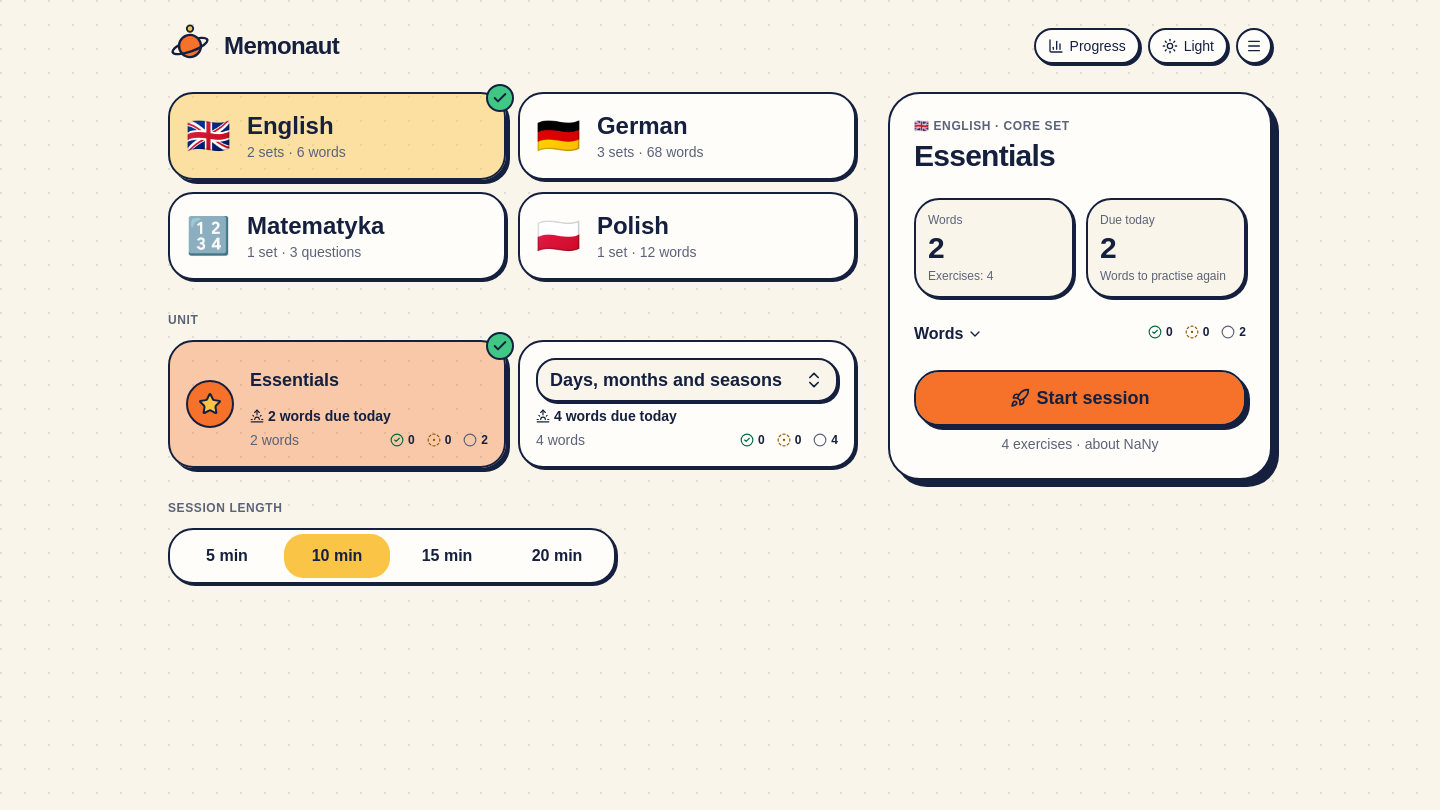
Test case: the logo leads back to the setup screen, asking first mid-session
Click the radio button named "German" at (687, 136), box x1=518 y1=92 x2=856 y2=180
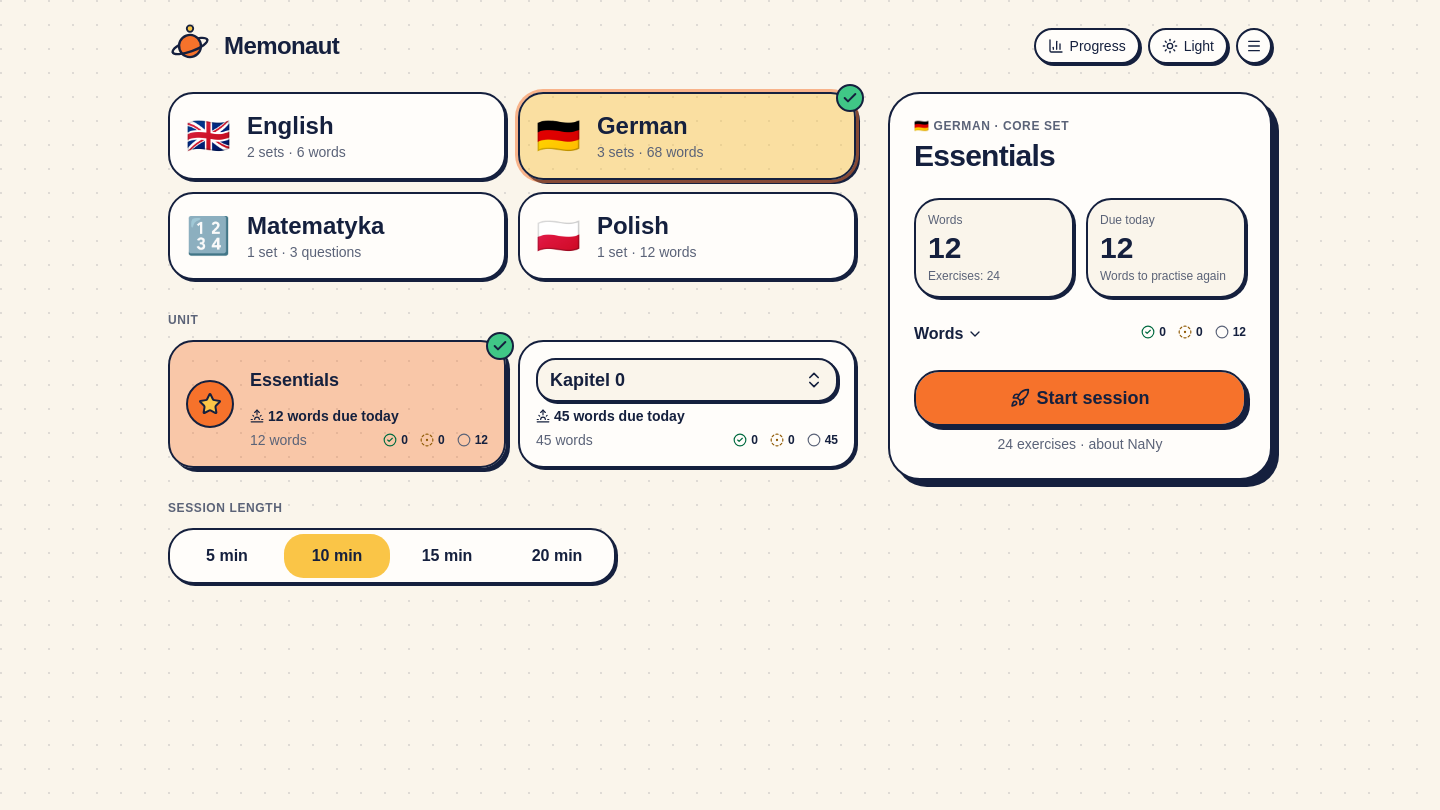
Click the 7th radio button labelled "20 min" at (557, 556), box x1=532 y1=547 x2=582 y2=564
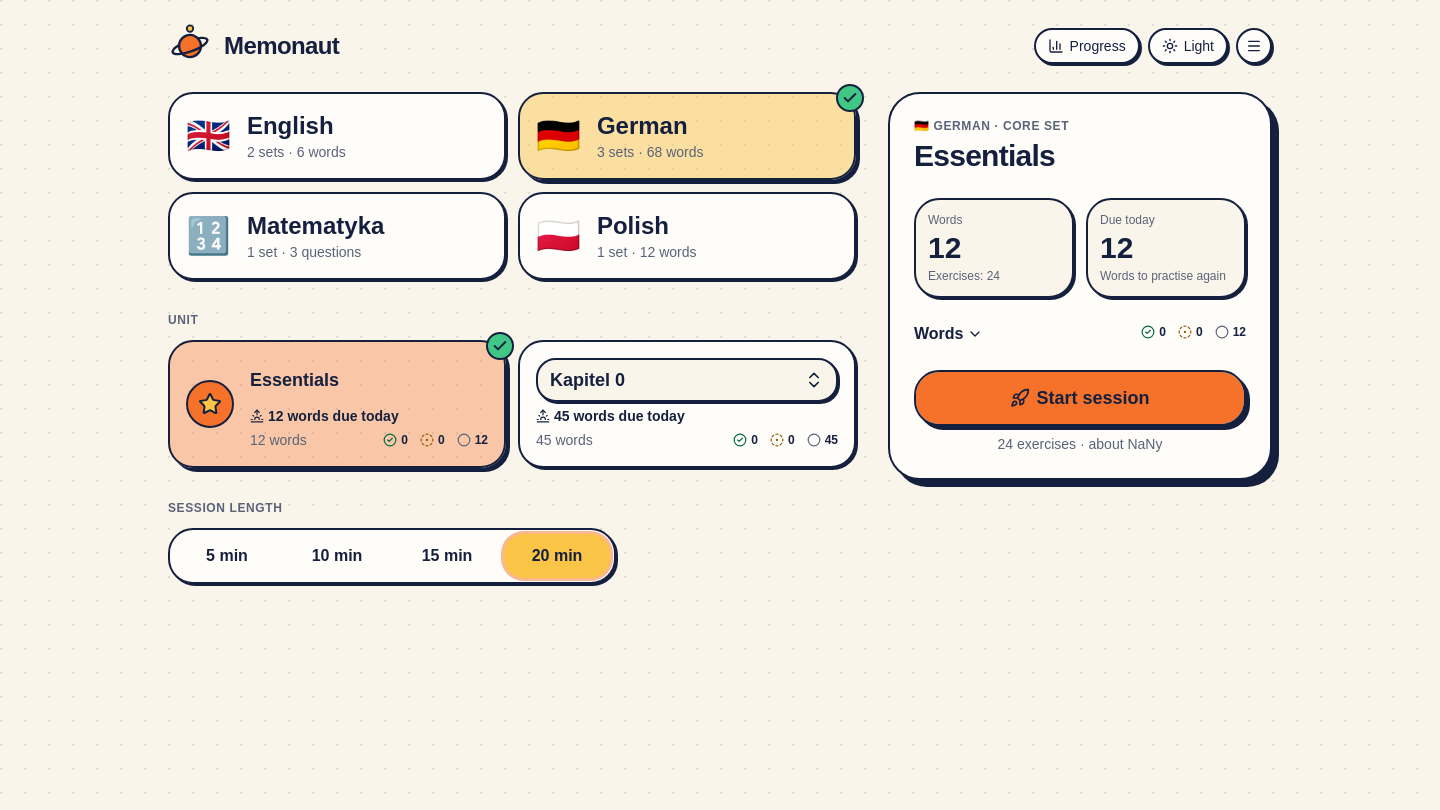
Click the button "Start session" at (1080, 398), box x1=914 y1=370 x2=1246 y2=426
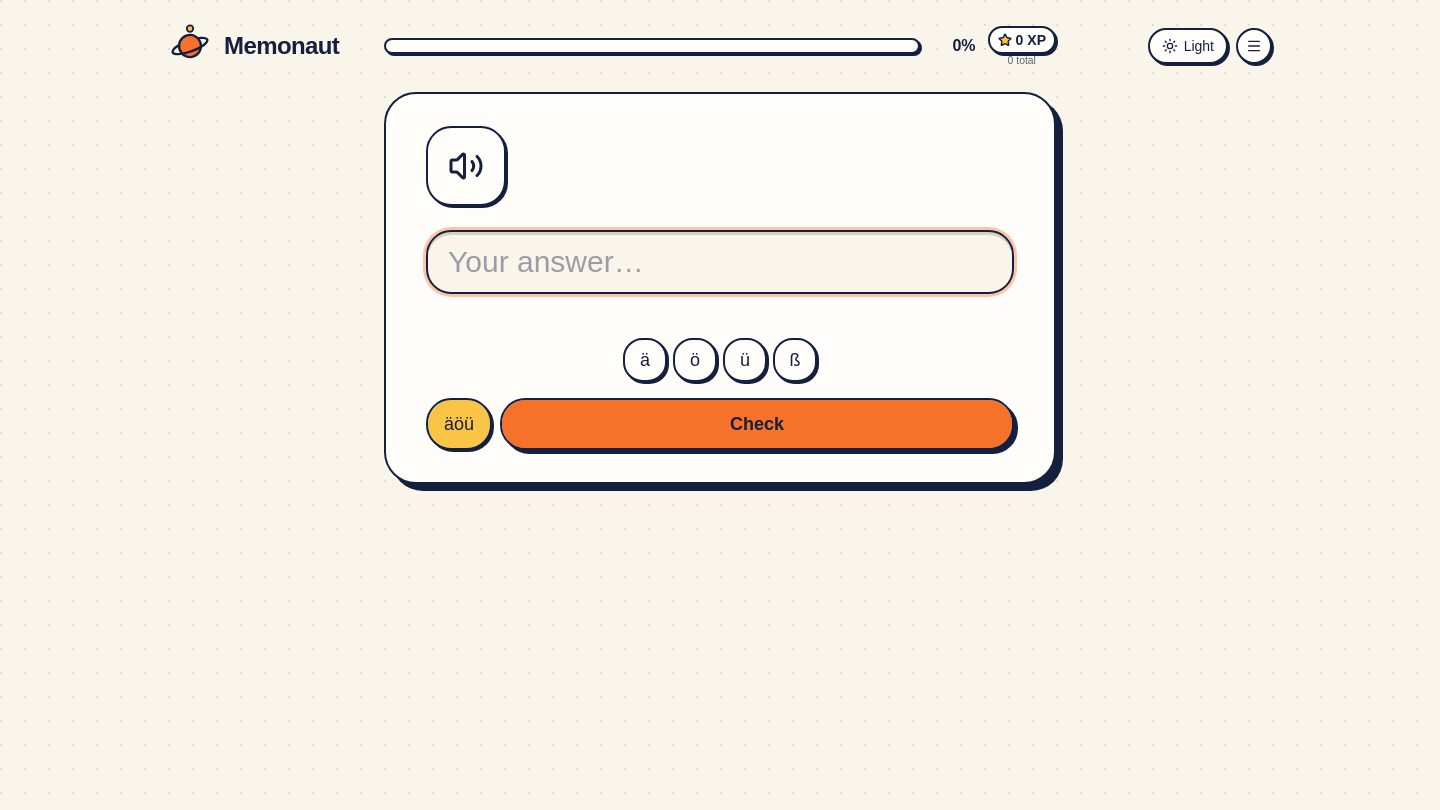
Click the button "Memonaut" at (254, 46), box x1=168 y1=24 x2=339 y2=68
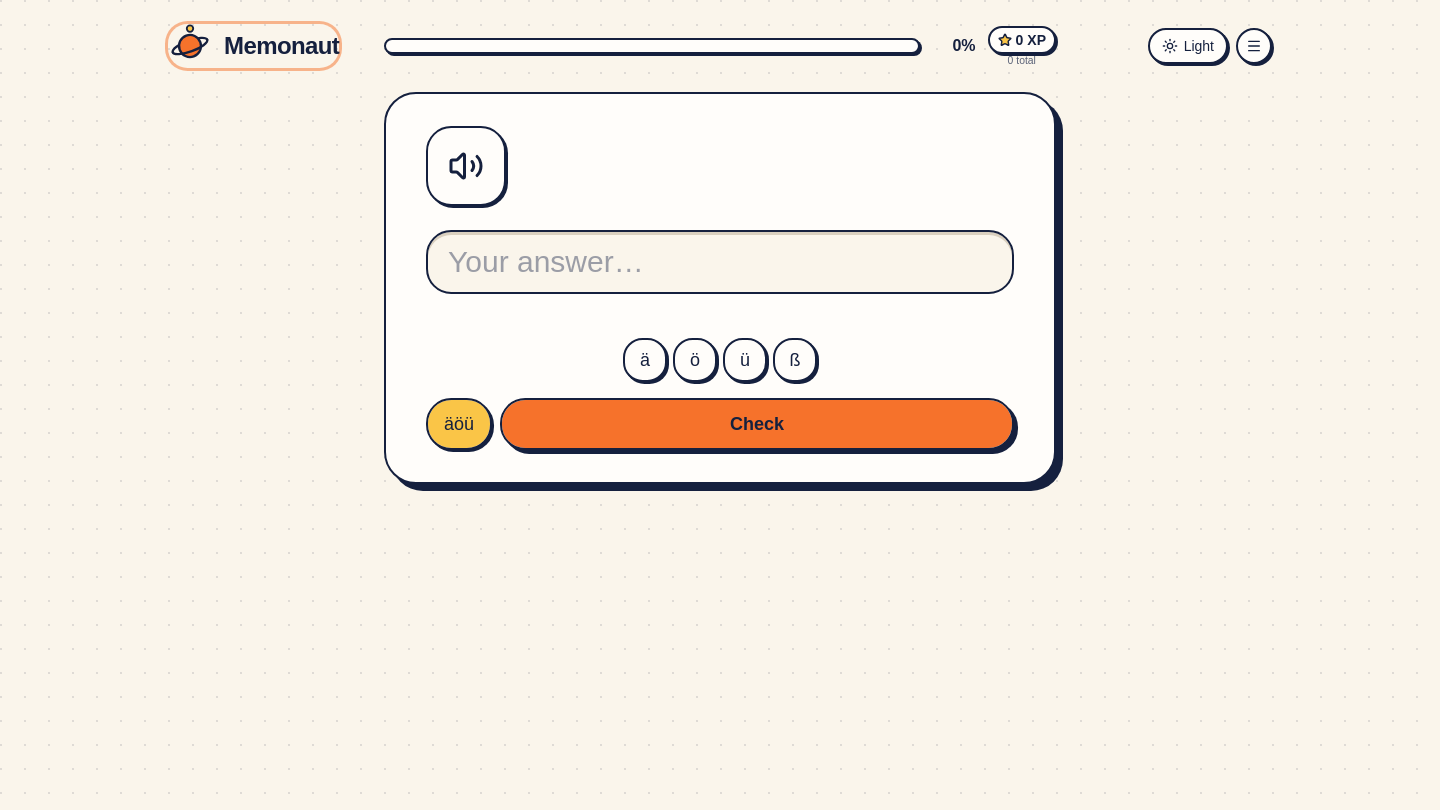
Now the field labelled "answer" is shown, box x1=426 y1=230 x2=1014 y2=294
Click the button "Memonaut" at (254, 46), box x1=168 y1=24 x2=339 y2=68
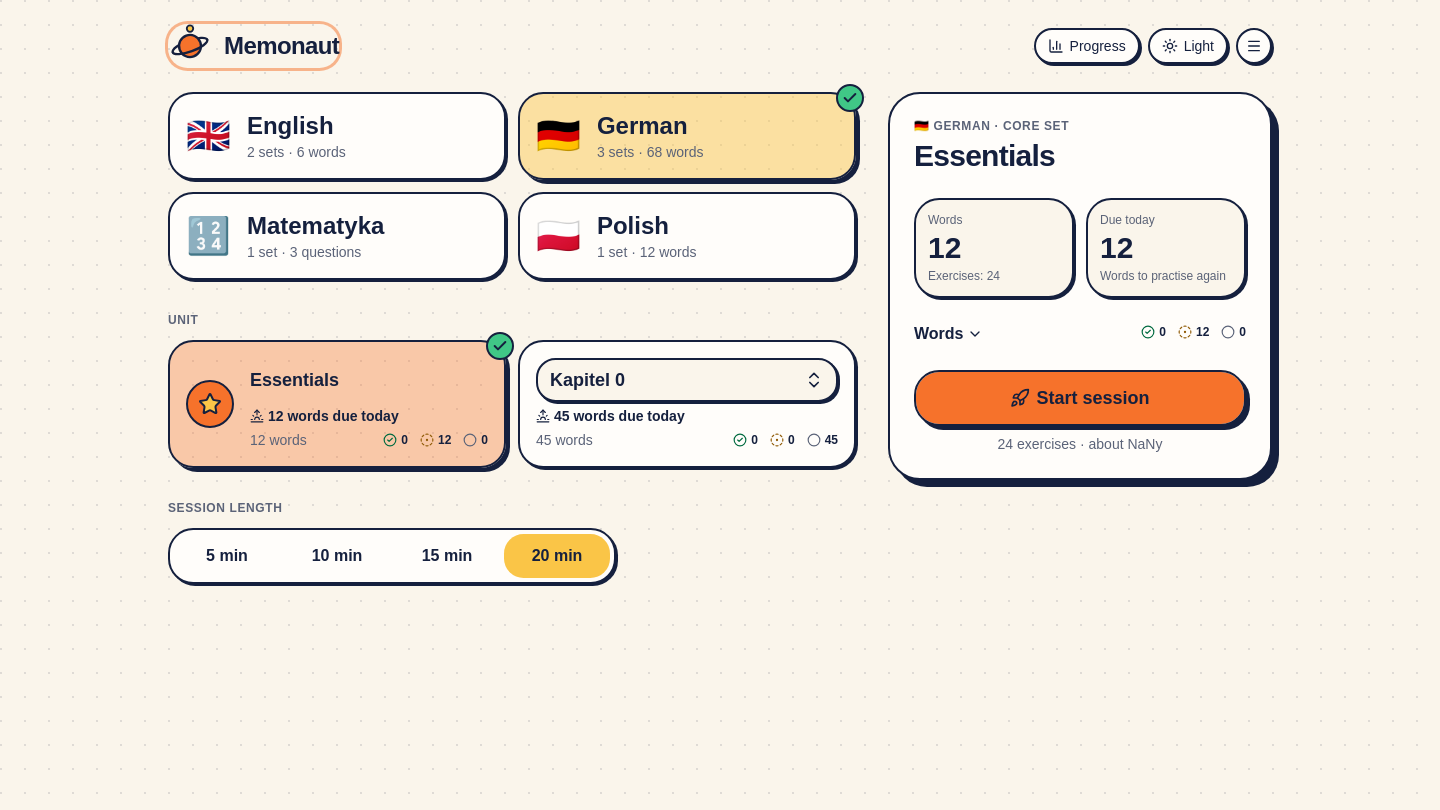
Now the button "Start session" is shown, box x1=914 y1=370 x2=1246 y2=426
